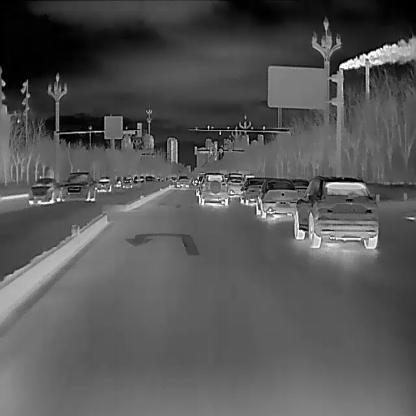car: (293, 174, 379, 250), (254, 176, 299, 218), (196, 172, 228, 206), (59, 171, 96, 200), (28, 177, 65, 206), (239, 175, 265, 204), (225, 172, 244, 197), (96, 176, 111, 193), (175, 173, 188, 187), (121, 175, 133, 189)
